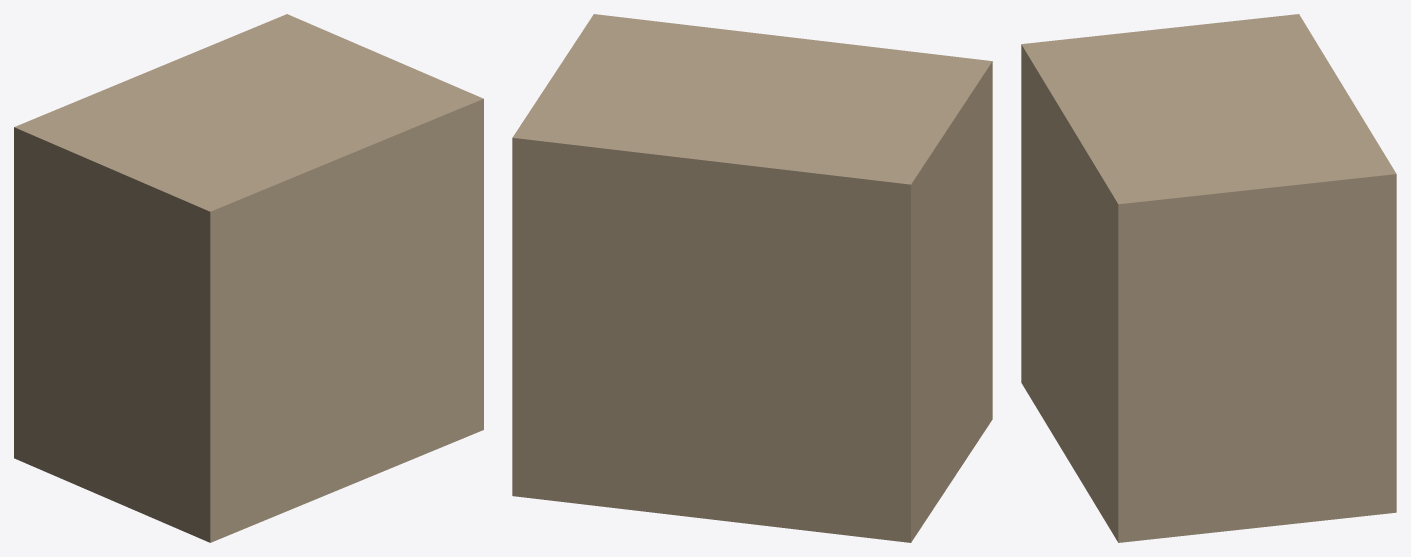
The model's file is bld_99872232.dae.
The picture shows the model from 3 angles, left to right: view 1: azimuth 30°, elevation 25°; view 2: azimuth 150°, elevation 25°; view 3: azimuth 270°, elevation 25°; orthographic projection. The views are drawn at different scales.
Parts seen in each view (by area): view 1: bld_99872232; view 2: bld_99872232; view 3: bld_99872232.
Part boxes in pixels (x1,y1,x2,y2): bld_99872232: (14, 14, 483, 542); bld_99872232: (512, 14, 992, 542); bld_99872232: (1021, 14, 1396, 542).
Size of the model in its own units: 9.64 by 8.03 by 8.
